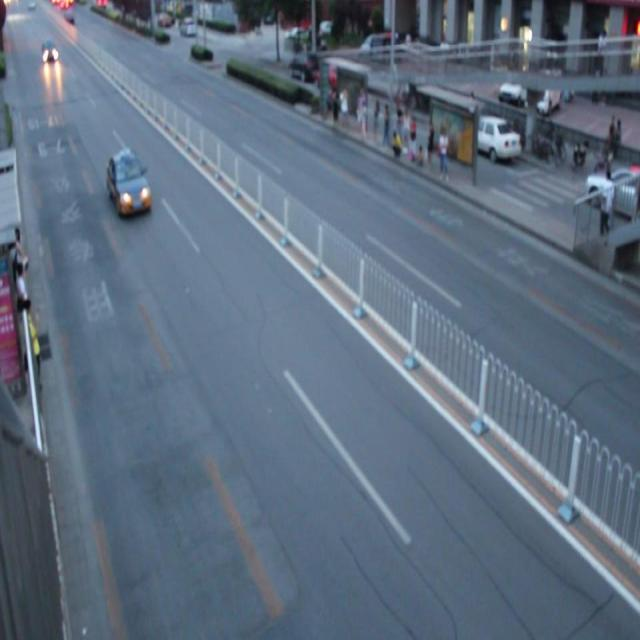car: (106, 151, 152, 219)
